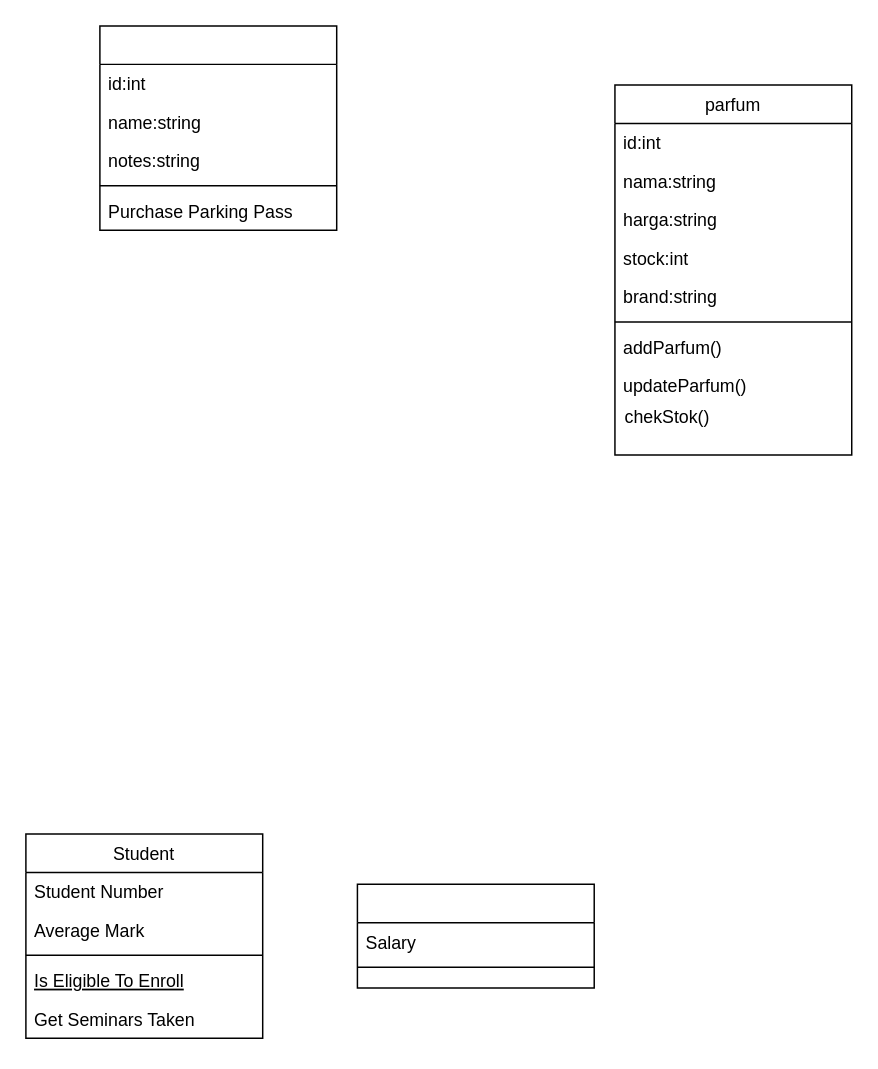
The diagram is 878 pixels wide and 1069 high, and some of its shapes have lost their labels. The shapes that lost their labels are listed below. From the top down, each one's box as (x1, y1, x2, y2) in pixels, then its label:
(98, 24, 337, 230): jenis parfum
(356, 883, 594, 988): Professor
